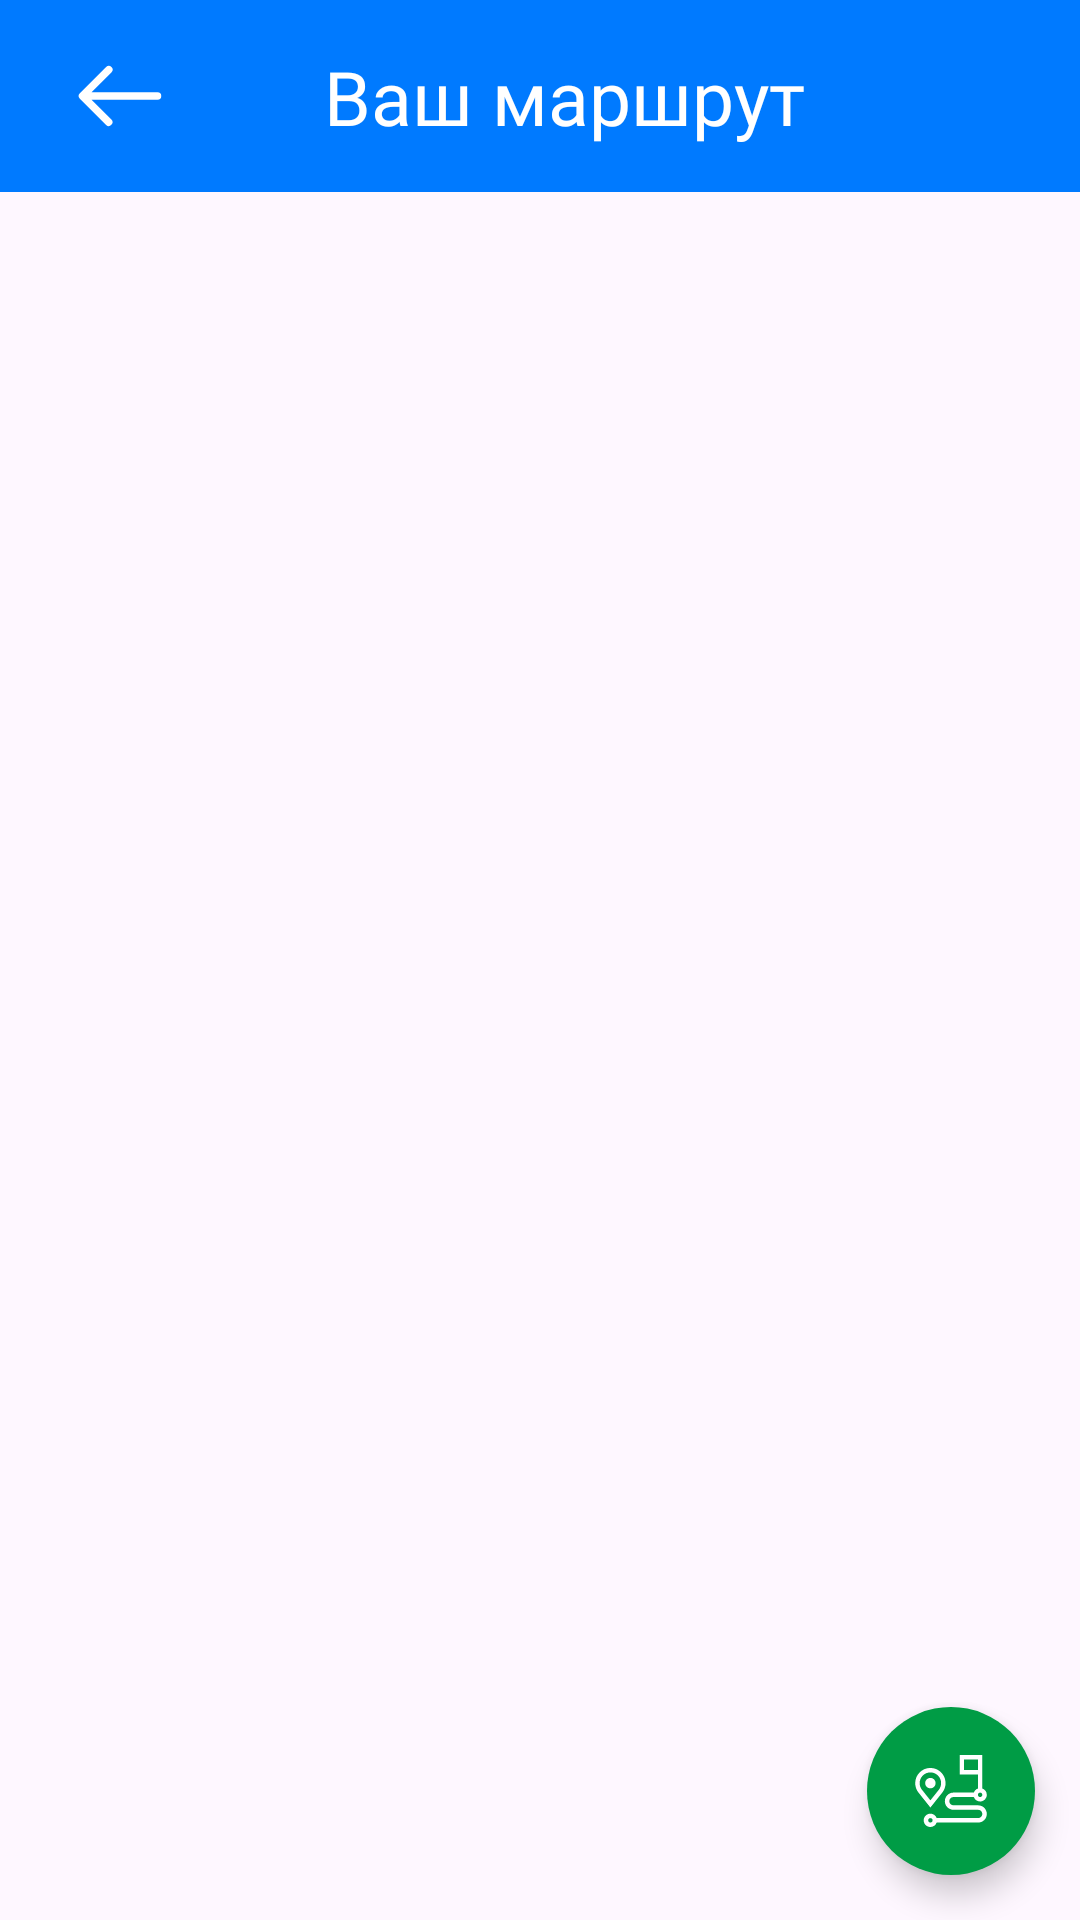

Icon bounding boxes for this 1080 x 1920 phone screenshot, format bbox=[x1, y1, x2, y2]:
back: bbox=[78, 65, 162, 127]
route: bbox=[867, 1707, 1035, 1875]
